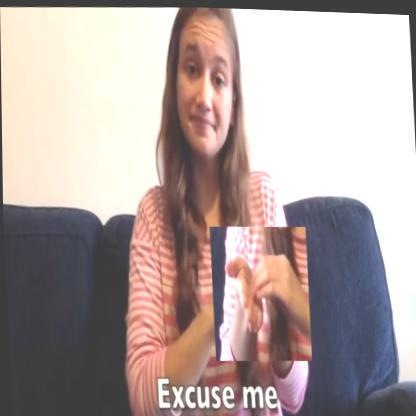ExcuseMe: (209, 222, 312, 362)
